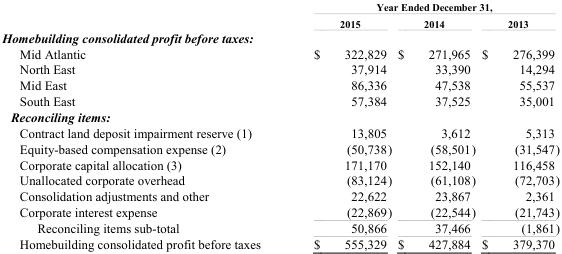table: (1, 1, 559, 251)
table column: (1, 1, 286, 251), (286, 1, 394, 251), (394, 1, 477, 251), (477, 1, 559, 251)
table column header: (1, 1, 559, 29)
table projected row header: (1, 29, 559, 45), (1, 108, 559, 124)
table row: (1, 29, 559, 45), (1, 45, 559, 61), (1, 61, 559, 77), (1, 77, 559, 93), (1, 108, 559, 124), (1, 124, 559, 140), (1, 140, 559, 156), (1, 156, 559, 172), (1, 187, 559, 203), (1, 203, 559, 219), (1, 219, 559, 235), (1, 235, 559, 251), (1, 14, 559, 29), (1, 93, 559, 108), (1, 172, 559, 187), (1, 1, 559, 14)
table spanning cell: (286, 1, 559, 14)
